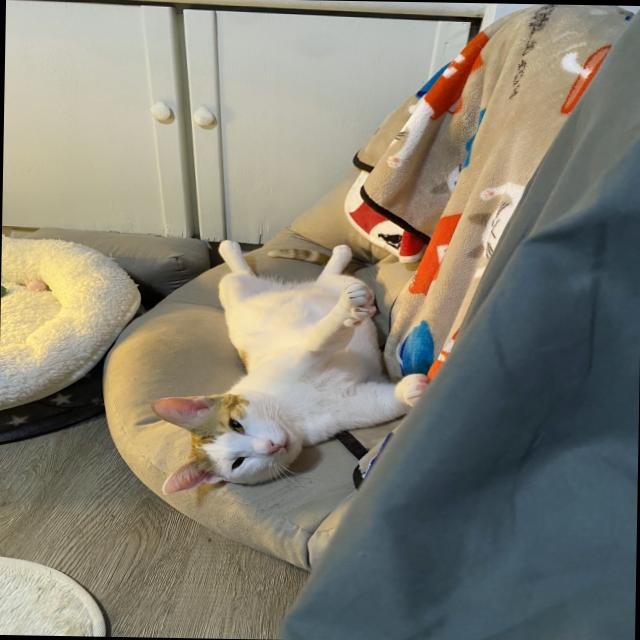cat1: (143, 234, 431, 501)
